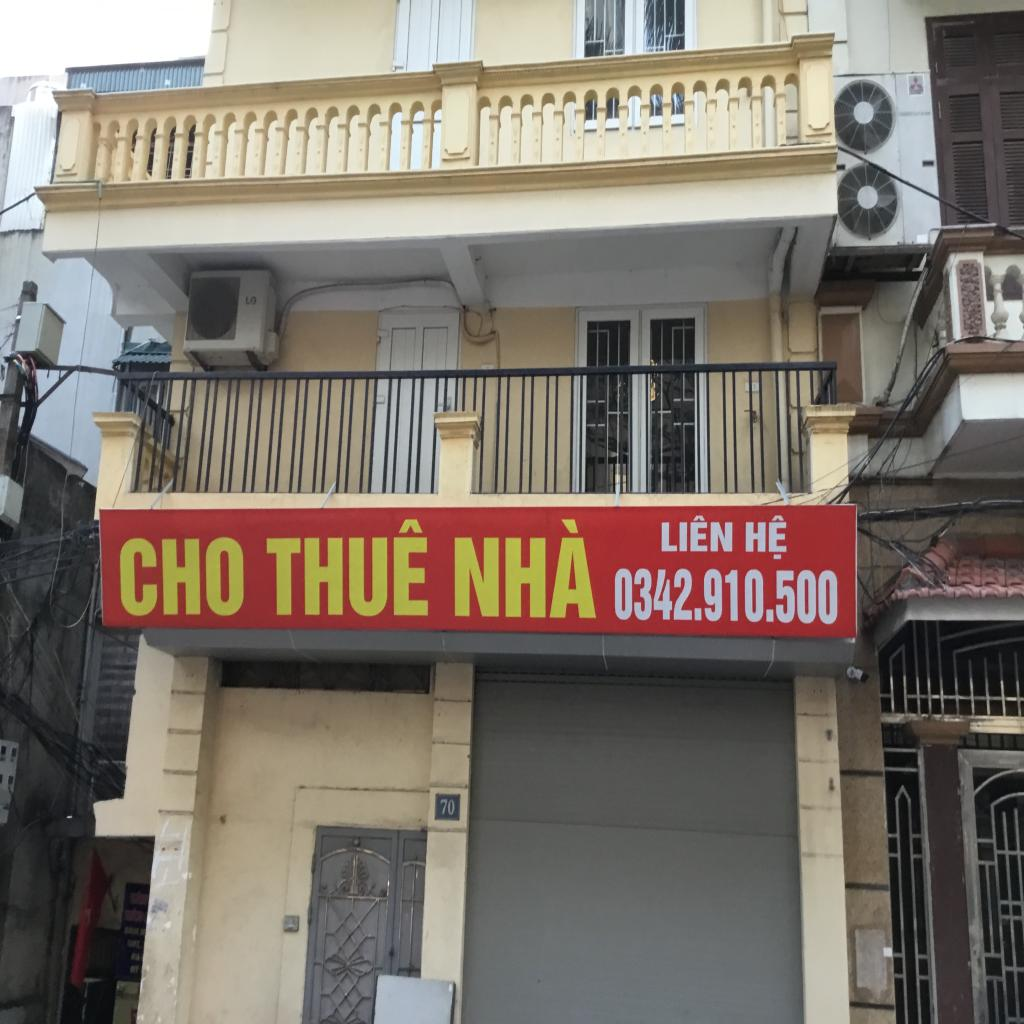text: (264, 518, 430, 620), (447, 516, 598, 620), (611, 563, 842, 627), (116, 532, 247, 619), (656, 513, 734, 556), (743, 510, 790, 562), (439, 796, 455, 817), (244, 292, 258, 308)
